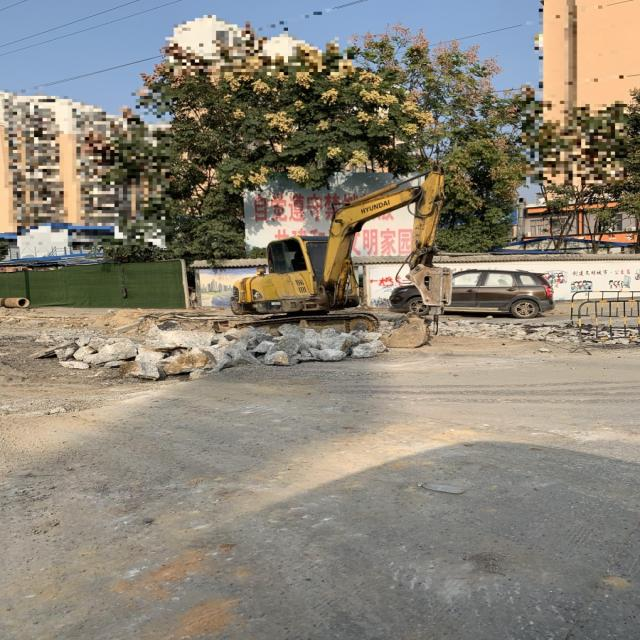excavator: (231, 165, 452, 332)
